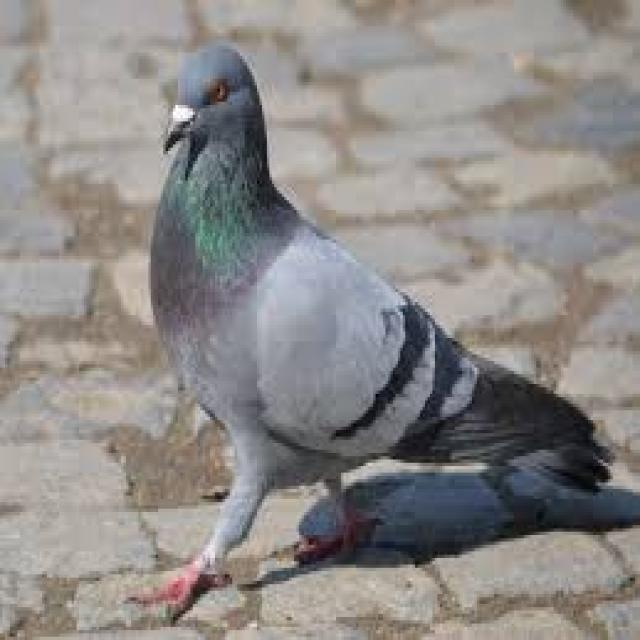pigeon: (133, 39, 640, 598)
